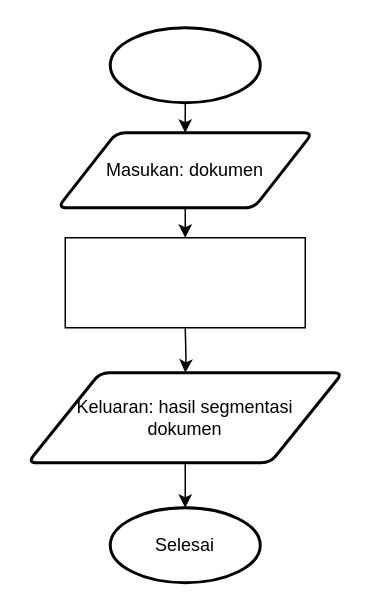
Some shapes in this 369 by 609 pixel diagram are drawn without their labels. Here are the shapes that lost their labels. From the top down, the centre of each, then its label:
the point at 184,65: Mulai
the point at 184,282: Pemisahan kalimat menggunakan modul NLTK
